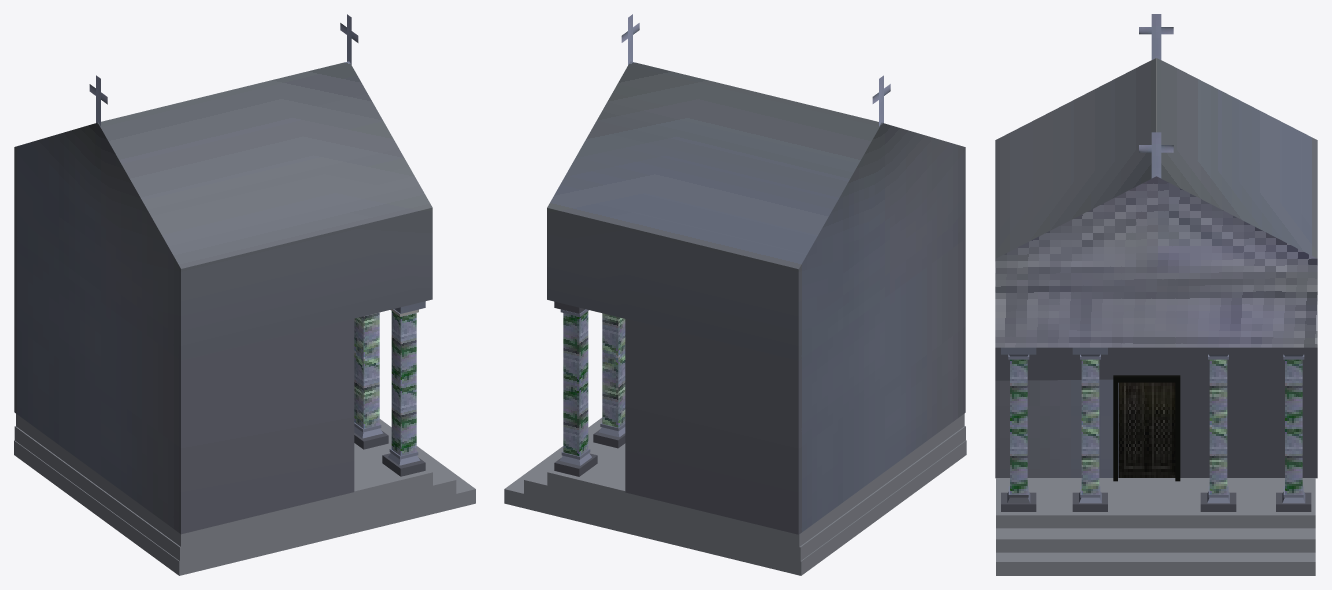
The model's file is Moze.fbx.
The picture shows the model from 3 angles, left to right: view 1: azimuth 30°, elevation 25°; view 2: azimuth 150°, elevation 25°; view 3: azimuth 270°, elevation 25°; orthographic projection. The views are drawn at different scales.
Parts seen in each view (by area): view 1: Moze; view 2: Moze; view 3: Moze.
Part boxes in pixels (x1,y1,x2,y2): Moze: (14,14,475,575); Moze: (504,14,966,575); Moze: (995,14,1317,575).
Size of the model in its own units: 11.88 by 16.75 by 11.56.
11 materials, 6 textured.
